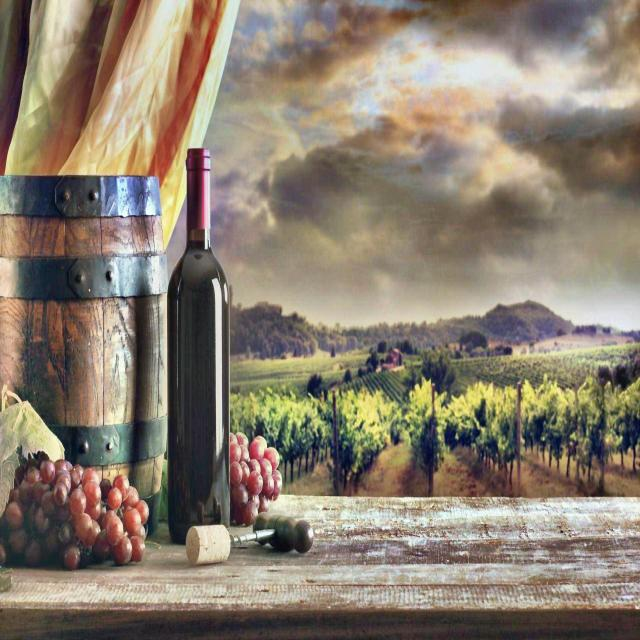cork: (186, 511, 234, 569)
